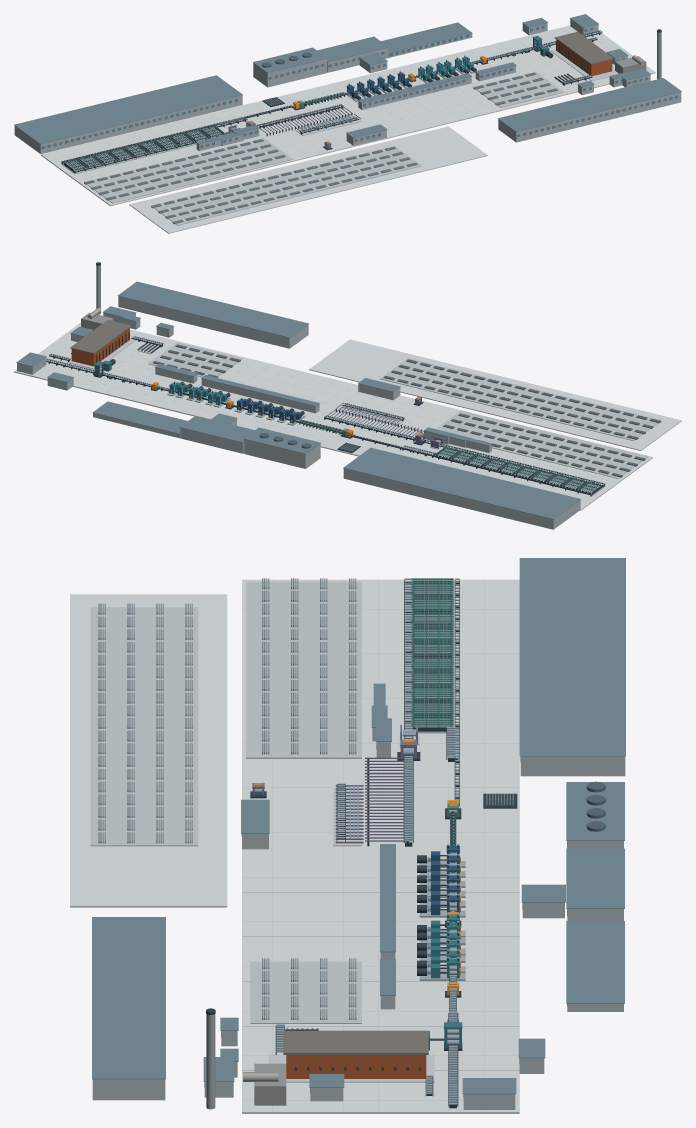
The model's file is Прокатный стан 300.glb.
3 renders of one model, top to bottom at view 1: azimuth 30°, elevation 25°; view 2: azimuth 150°, elevation 25°; view 3: azimuth 270°, elevation 25°, orthographic. The views are drawn at different scales.
Parts seen in each view (by area): view 1: Пол производственного пролёта, 46 · Участок подготовки производства, 3* — штабели · Складирование готового проката, Окружение, 2* · Складирование готового проката, ТП-20 · Трансформаторная подстанция ТП-20, 11 · Холодильник · 10 секций, 60 м, 30.3 · Градирня, 1 · Нагревательная печь с шагающим подом, 1* · Зона подготовки заготовки, 30.1 · Бассейн с горячей водой, 30.2 · Насосная оборотного водоснабжения (+13 smaller); view 2: Пол производственного пролёта, 46 · Участок подготовки производства, 3* — штабели · Складирование готового проката, Окружение, ТП-20 · Трансформаторная подстанция ТП-20, 2* · Складирование готового проката, 30.3 · Градирня, 11 · Холодильник · 10 секций, 60 м, 1 · Нагревательная печь с шагающим подом, 1* · Зона подготовки заготовки, 30.1 · Бассейн с горячей водой, 30.2 · Насосная оборотного водоснабжения (+9 smaller); view 3: Пол производственного пролёта, 3* — штабели · Складирование готового проката, Окружение, 46 · Участок подготовки производства, 2* · Складирование готового проката, ТП-20 · Трансформаторная подстанция ТП-20, 1 · Нагревательная печь с шагающим подом, 1* · Зона подготовки заготовки, 11 · Холодильник · 10 секций, 60 м, 30.1 · Бассейн с горячей водой, 30.2 · Насосная оборотного водоснабжения, 30.3 · Градирня (+15 smaller).
Part boxes in pixels (x1,y1,x2,y2): Пол производственного пролёта: (41,25,655,206); 46 · Участок подготовки производства: (14,75,242,153); 3* — штабели · Складирование готового проката: (151,146,421,225); Окружение: (129,126,487,233); 2* · Складирование готового проката: (84,138,293,203); ТП-20 · Трансформаторная подстанция ТП-20: (498,78,681,142); 11 · Холодильник · 10 секций, 60 м: (62,125,224,174); 30.3 · Градирня: (253,47,327,87); 1 · Нагревательная печь с шагающим подом: (550,31,618,81); 1* · Зона подготовки заготовки: (473,71,563,107); 30.1 · Бассейн с горячей водой: (381,22,472,57); 30.2 · Насосная оборотного водоснабжения: (317,36,388,72); Пол производственного пролёта: (14,322,652,510); 46 · Участок подготовки производства: (343,447,580,529); 3* — штабели · Складирование готового проката: (380,358,661,440); Окружение: (309,339,681,450); ТП-20 · Трансформаторная подстанция ТП-20: (117,281,308,348); 2* · Складирование готового проката: (436,410,648,478); 30.3 · Градирня: (243,427,320,468); 11 · Холодильник · 10 секций, 60 м: (434,446,605,495); 1 · Нагревательная печь с шагающим подом: (67,320,138,369); 1* · Зона подготовки заготовки: (148,342,242,377); 30.1 · Бассейн с горячей водой: (92,401,187,438); 30.2 · Насосная оборотного водоснабжения: (179,416,254,453); Пол производственного пролёта: (242,579,519,1113); 3* — штабели · Складирование готового проката: (90,603,198,846); Окружение: (70,594,227,907); 46 · Участок подготовки производства: (519,558,625,776); 2* · Складирование готового проката: (246,578,361,758); ТП-20 · Трансформаторная подстанция ТП-20: (92,917,165,1100); 1 · Нагревательная печь с шагающим подом: (269,1030,434,1082); 1* · Зона подготовки заготовки: (250,958,361,1023); 11 · Холодильник · 10 секций, 60 м: (404,578,453,733); 30.1 · Бассейн с горячей водой: (566,921,624,1011); 30.2 · Насосная оборотного водоснабжения: (566,848,624,920); 30.3 · Градирня: (566,781,624,848).
Bounding box in the file's own units: 215 × 18.65 × 94.69.
